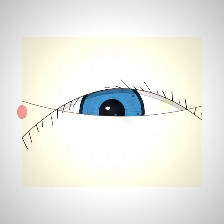pinguecula_lesion: (149, 92, 181, 118)
